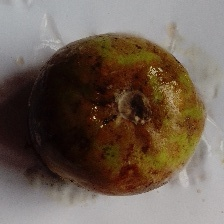guava: (55, 43, 212, 188)
